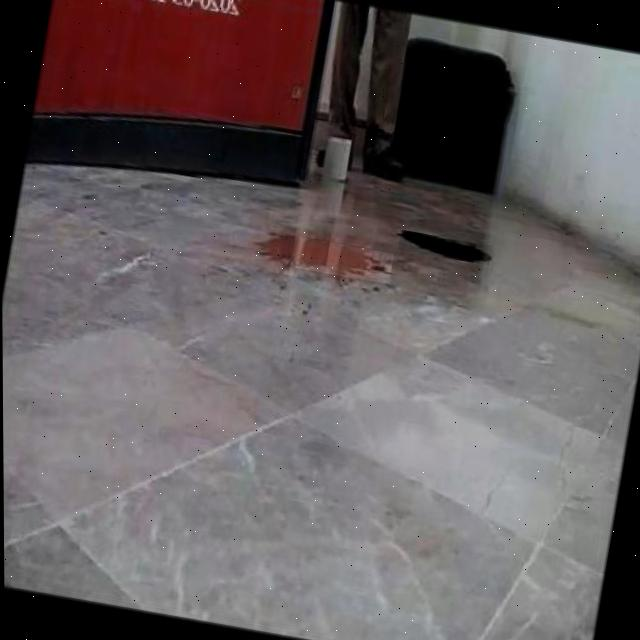spillage: (295, 239, 390, 276), (399, 230, 490, 262), (256, 236, 294, 264)
